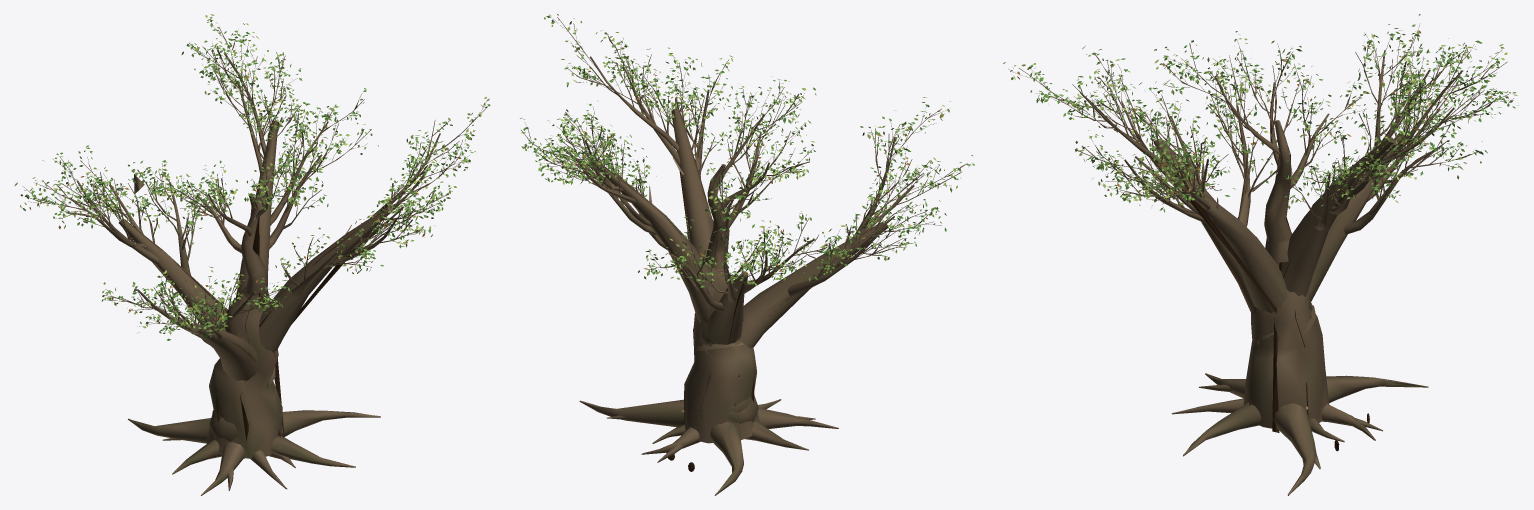
Rendered from ancient_tree_03_lod2.glb.
3 renders of one model, left to right at view 1: azimuth 30°, elevation 25°; view 2: azimuth 150°, elevation 25°; view 3: azimuth 270°, elevation 25°, orthographic. The views are drawn at different scales.
Parts seen in each view (by area): view 1: AncientTreeWood_LOD2, AncientLeaves_LOD2, FineBranches_LOD2, DirectedBarkGrooves_LOD2; view 2: AncientTreeWood_LOD2, AncientLeaves_LOD2, FineBranches_LOD2, DirectedBarkGrooves_LOD2; view 3: AncientTreeWood_LOD2, AncientLeaves_LOD2, FineBranches_LOD2, DirectedBarkGrooves_LOD2.
Part boxes in pixels (x1,y1,x2,y2): AncientTreeWood_LOD2: (26, 27, 487, 495); AncientLeaves_LOD2: (14, 14, 490, 340); FineBranches_LOD2: (23, 22, 487, 335); DirectedBarkGrooves_LOD2: (119, 121, 390, 440); AncientTreeWood_LOD2: (521, 17, 960, 495); AncientLeaves_LOD2: (520, 14, 974, 287); FineBranches_LOD2: (525, 16, 967, 287); DirectedBarkGrooves_LOD2: (601, 109, 886, 424); AncientTreeWood_LOD2: (1019, 35, 1508, 495); AncientLeaves_LOD2: (1003, 14, 1517, 212); FineBranches_LOD2: (1008, 23, 1513, 209); DirectedBarkGrooves_LOD2: (1155, 121, 1398, 432).
Bounding box in the file's own units: 24.31 × 22.41 × 24.66.
